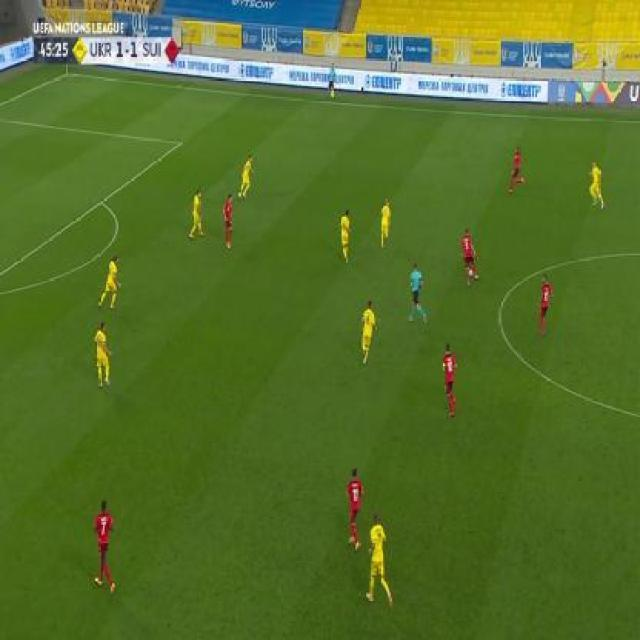ball: (469, 269, 474, 278)
player: (365, 512, 394, 611), (92, 499, 117, 596), (344, 465, 366, 553), (440, 341, 459, 420), (96, 254, 122, 311), (93, 320, 113, 389), (359, 298, 378, 366), (407, 263, 427, 326), (536, 273, 555, 336), (459, 228, 479, 287), (586, 159, 606, 210), (506, 145, 525, 194), (189, 188, 206, 241), (236, 153, 255, 199), (221, 192, 235, 251), (338, 209, 352, 263), (378, 196, 392, 250), (325, 62, 338, 102)
